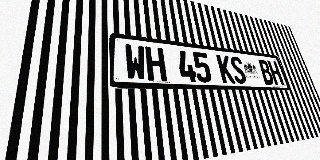4: (176, 50, 197, 82)
5: (192, 52, 213, 83)
B: (257, 59, 275, 85)
H: (145, 46, 167, 81), (267, 60, 284, 85)
K: (216, 54, 235, 83)
S: (229, 56, 248, 84)
W: (124, 44, 147, 81)
